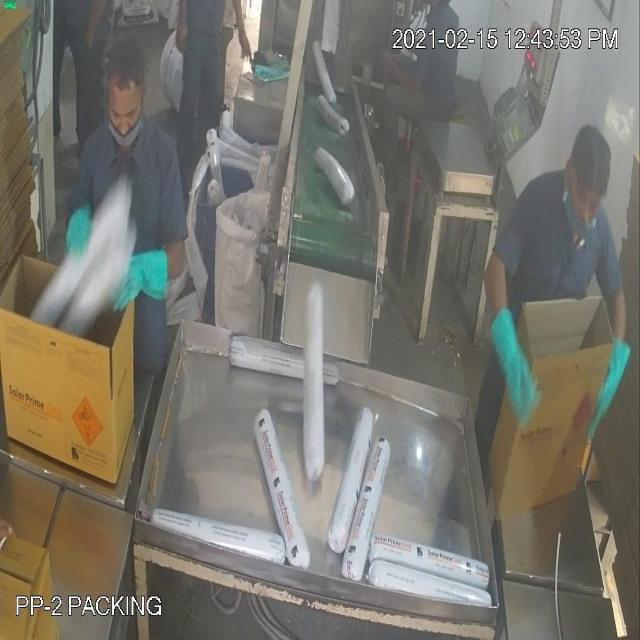Gloves: (22, 30, 606, 394)
